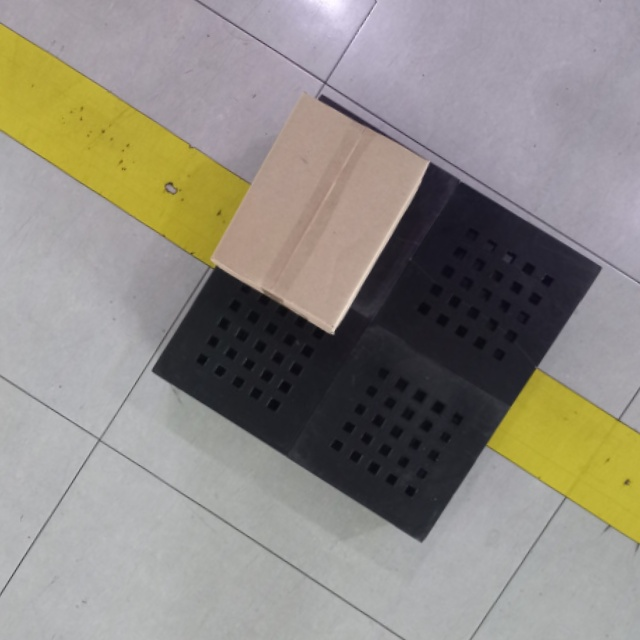box: (208, 87, 432, 339)
pallet: (143, 85, 609, 548)
